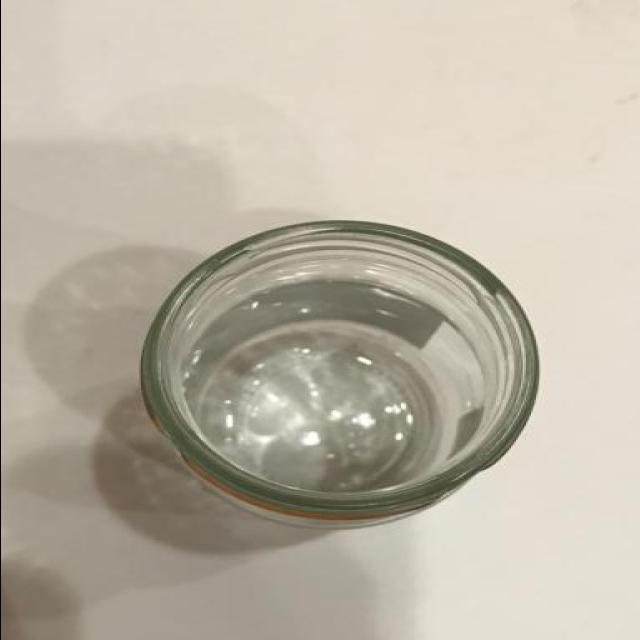litter: (124, 218, 544, 532)
